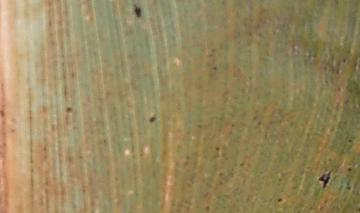tarspot: (319, 172, 331, 189), (133, 5, 143, 18), (146, 114, 157, 123), (63, 105, 73, 113), (214, 144, 221, 152), (275, 195, 283, 202), (340, 56, 348, 63), (204, 203, 210, 212), (346, 165, 353, 172), (346, 137, 353, 144), (238, 160, 245, 167), (1, 109, 6, 118), (212, 65, 218, 71), (346, 184, 351, 191)
